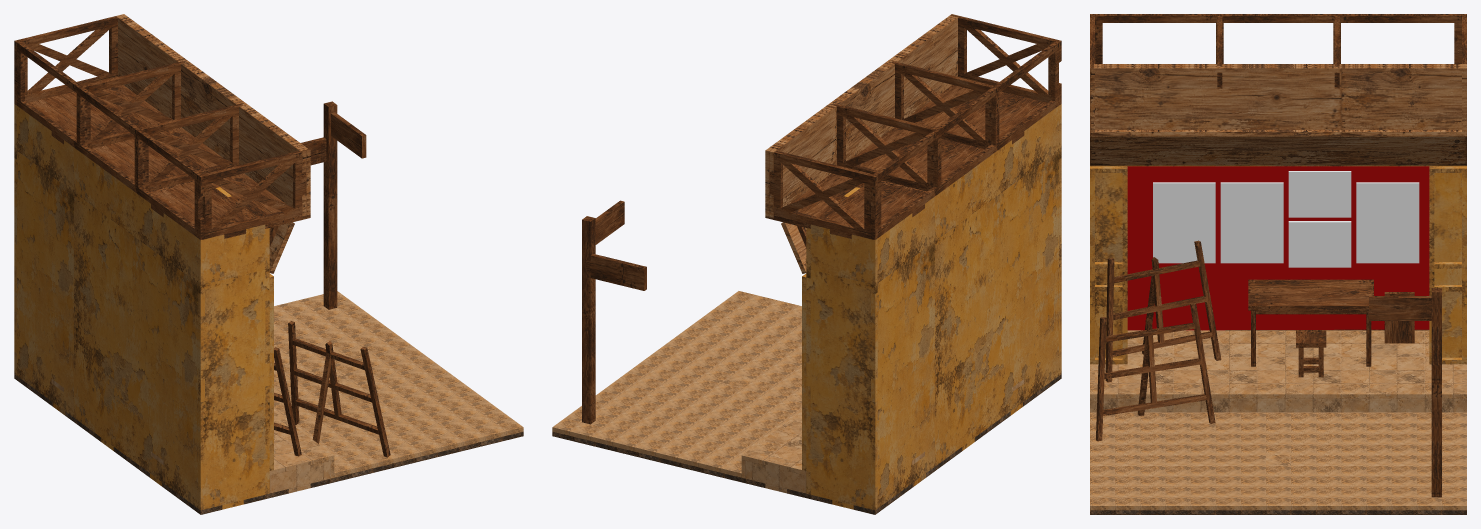
Rendered from Hang-Trong-Model.original.glb.
The picture shows the model from 3 angles, left to right: view 1: azimuth 30°, elevation 25°; view 2: azimuth 150°, elevation 25°; view 3: azimuth 270°, elevation 25°; orthographic projection.
Parts seen in each view (by area): view 1: 34689, Component#1 (×2), 34694, 34695, Component#6 (×2), Component#21 (×3), 34709, 34685, 30599, 34691, Component#13, 34705 (+6 smaller); view 2: 34689, Component#1 (×2), 34694, 34695, Component#6 (×2), 34685, 34716, 34691, 34711, Component#13, 34705, 34698 (+3 smaller); view 3: 34689, 34694, 34691, 34696, 34698, 34705, 34715, 34708, Component#5 (×2), 34693, 34707, 33802 (+12 smaller).
Boxes of the visible parts, x1,y1,x2,y2 form: 34689: [14, 41, 204, 508]; Component#1 (×2): [14, 16, 306, 510]; 34694: [116, 15, 306, 219]; 34695: [28, 85, 301, 238]; Component#6 (×2): [82, 61, 242, 191]; Component#21 (×3): [274, 321, 390, 457]; 34709: [326, 103, 337, 309]; 34685: [14, 374, 523, 514]; 30599: [292, 338, 378, 434]; 34691: [51, 379, 334, 475]; Component#13: [269, 459, 329, 493]; 34705: [120, 14, 310, 218]; 34689: [871, 41, 1061, 508]; Component#1 (×2): [769, 16, 1061, 510]; 34694: [769, 15, 959, 219]; 34695: [774, 85, 1047, 238]; Component#6 (×2): [833, 61, 993, 191]; 34685: [552, 374, 1061, 514]; 34716: [582, 218, 592, 424]; 34691: [741, 379, 1024, 475]; 34711: [586, 253, 646, 290]; Component#13: [746, 459, 806, 493]; 34705: [765, 14, 955, 218]; 34698: [806, 187, 859, 494]; 34689: [1095, 14, 1461, 330]; 34694: [1090, 64, 1466, 129]; 34691: [1090, 330, 1466, 398]; 34696: [1090, 136, 1466, 165]; 34698: [1090, 165, 1466, 357]; 34705: [1090, 66, 1466, 136]; 34715: [1356, 182, 1419, 263]; 34708: [1220, 182, 1283, 263]; Component#5 (×2): [1090, 166, 1466, 364]; 34693: [1090, 392, 1466, 412]; 34707: [1153, 182, 1215, 263]; 33802: [1248, 279, 1373, 310].
Size of the model in its own units: 0.15 by 0.15 by 0.15.
Materials: 967 (923 with a texture image).
